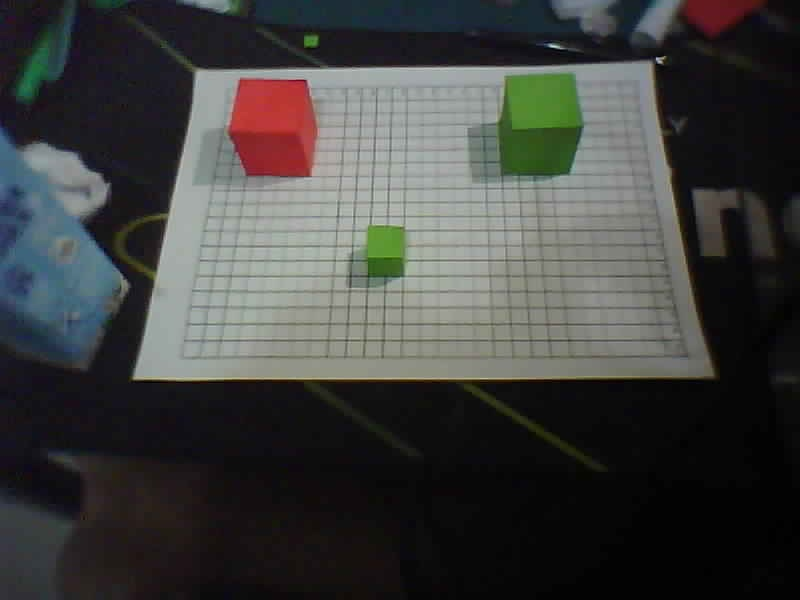green 2x2x2: (360, 212, 410, 279)
green 4x4x4: (489, 61, 591, 183)
red 4x4x4: (222, 68, 329, 189)
